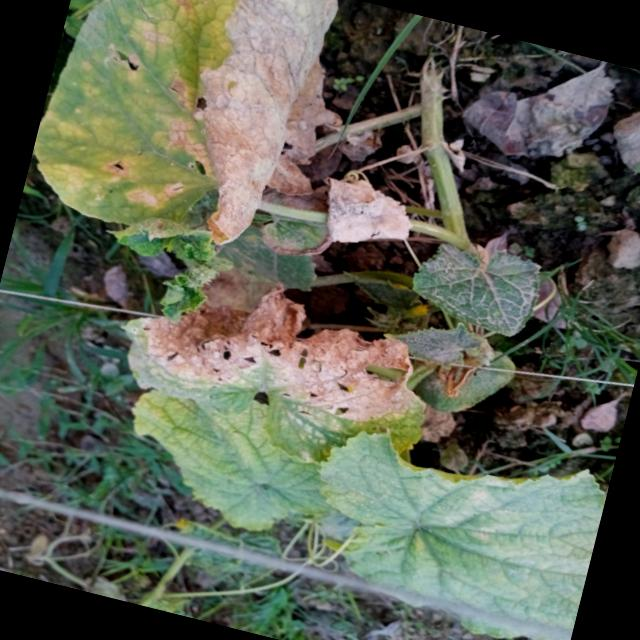cucumber_bacterial: (21, 0, 345, 261), (111, 252, 443, 458), (306, 160, 432, 268)
